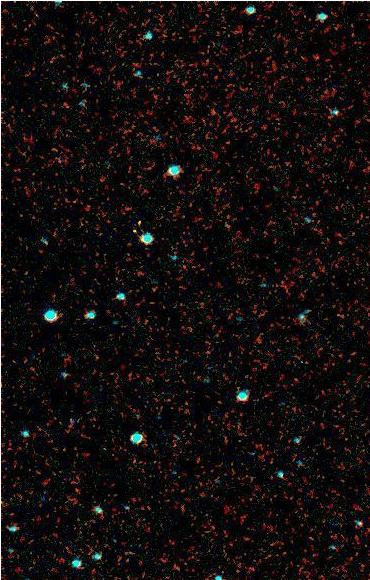star: (120, 210, 150, 240)
